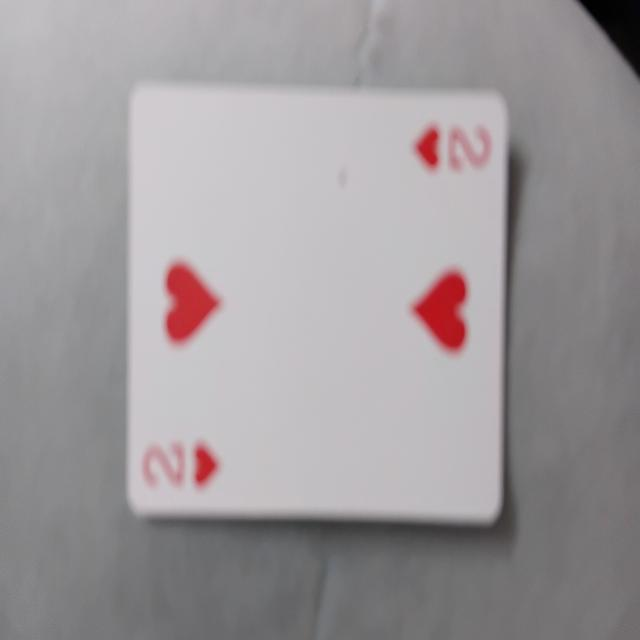2H: (128, 85, 510, 514)
